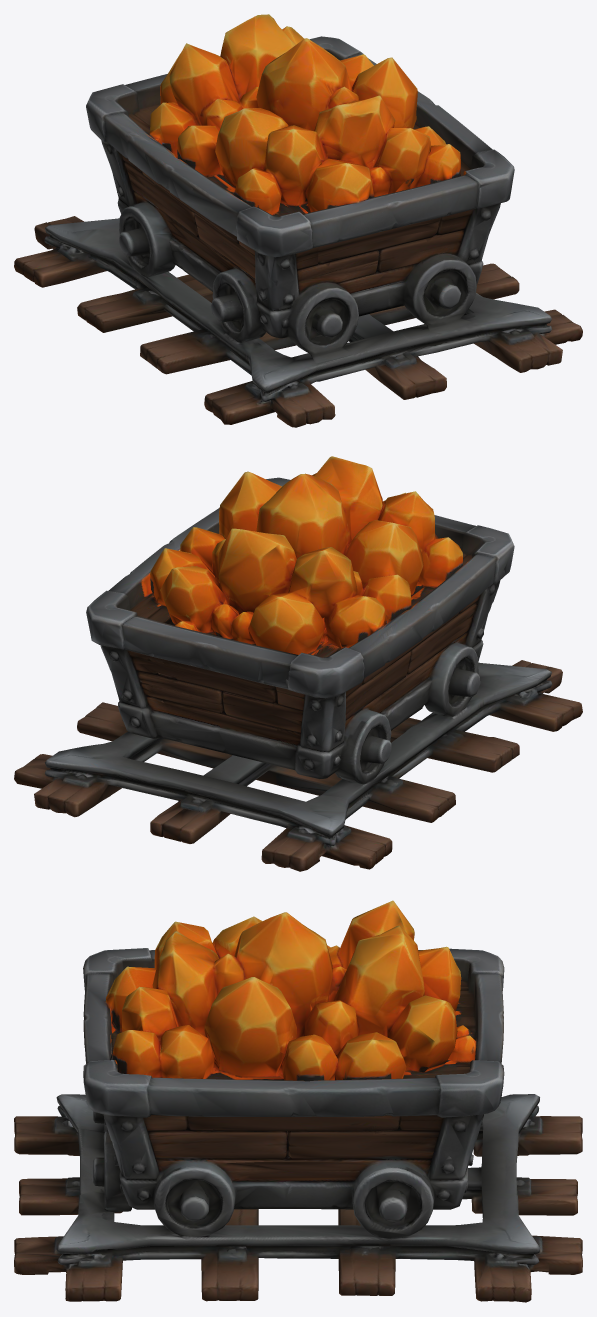
File: vagoneta_minera.glb
3 views of the same model, one above another, from view 1: azimuth 30°, elevation 25°; view 2: azimuth 150°, elevation 25°; view 3: azimuth 270°, elevation 25° (orthographic). The views are drawn at different scales.
Visible parts, largest first — view 1: vagoneta_minera; view 2: vagoneta_minera; view 3: vagoneta_minera.
Boxes of the visible parts, bbox=[...] form: vagoneta_minera: bbox=[14, 14, 582, 427]; vagoneta_minera: bbox=[14, 456, 582, 871]; vagoneta_minera: bbox=[14, 900, 582, 1302].
Size of what is drawn, in the model's own units: 1.66 by 1.2 by 2.09.
1 material, 1 textured.
